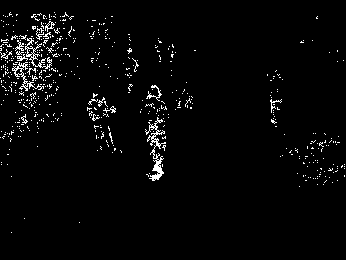person: (136, 83, 175, 184), (76, 88, 120, 159)
